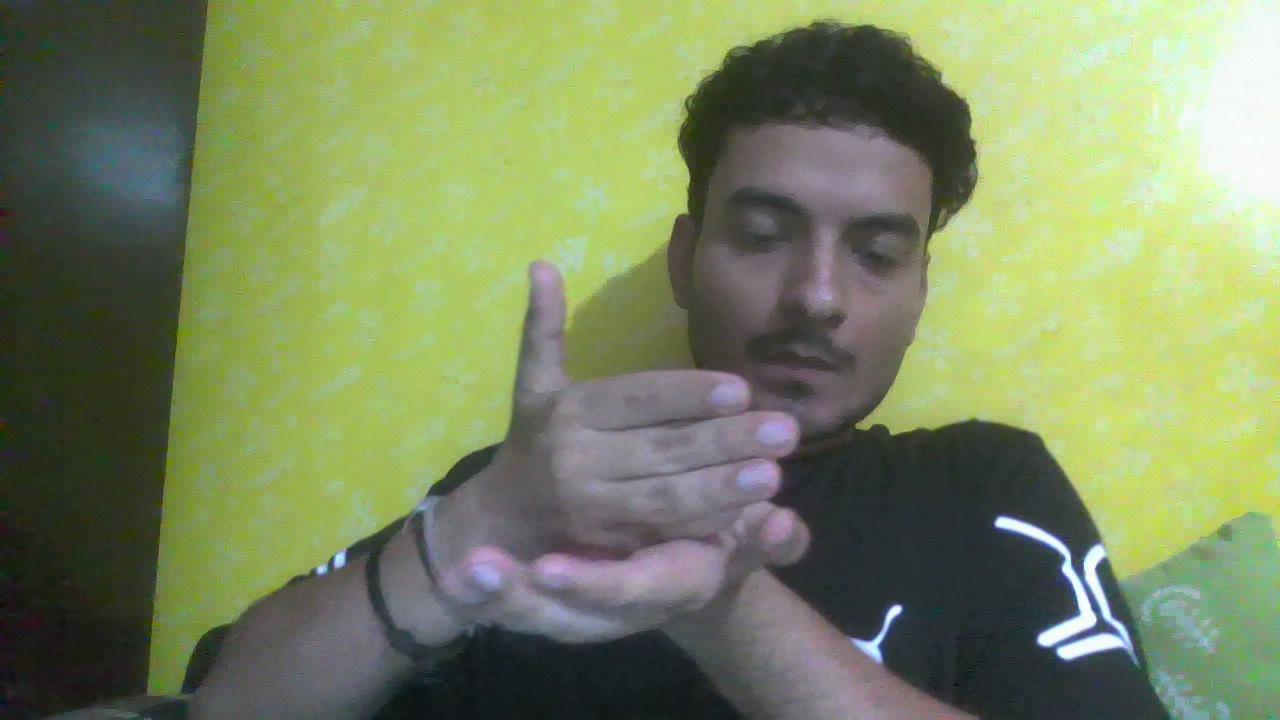stop: (411, 263, 871, 678)
